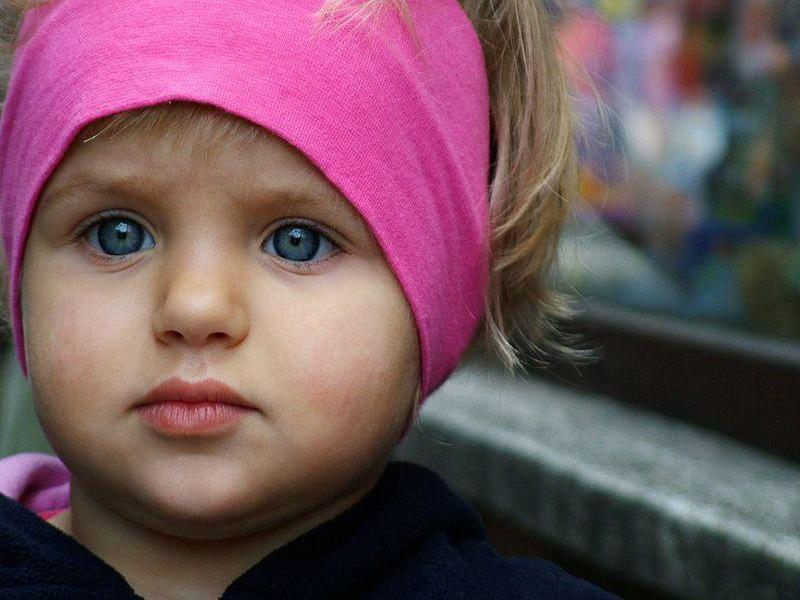person: (1, 2, 611, 600)
